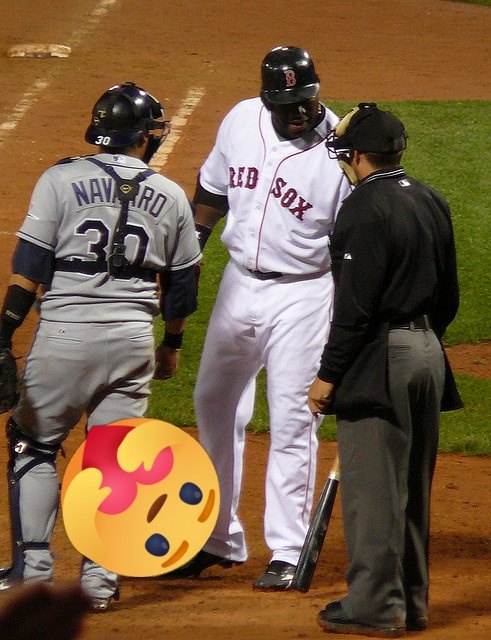care: (61, 418, 220, 577)
